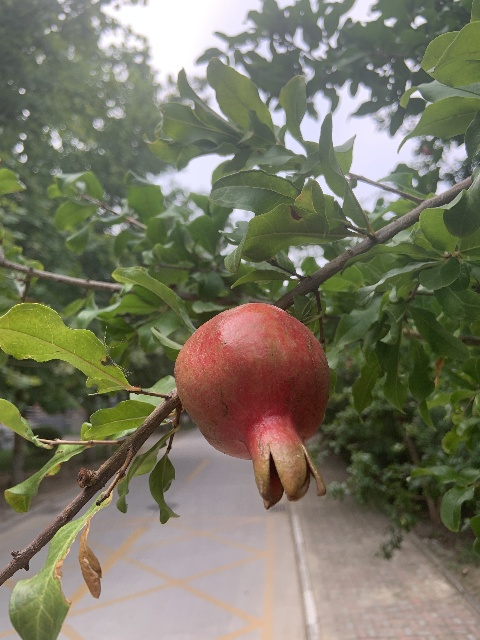ripe: (173, 302, 331, 507)
